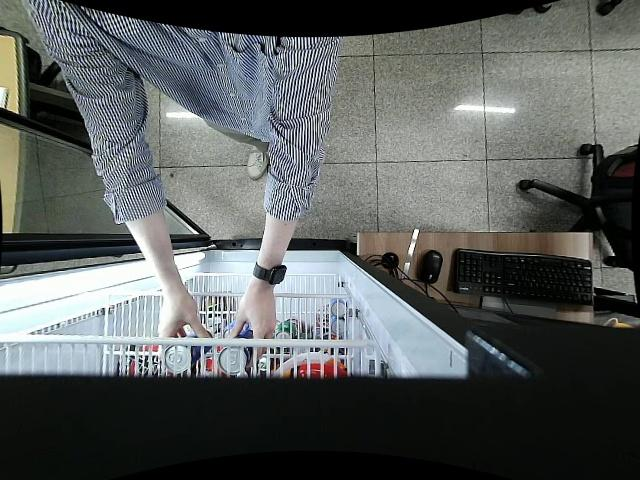00_hand: (227, 298, 277, 367), (155, 296, 210, 339)
16_hot6: (165, 332, 212, 373), (221, 328, 253, 374)
